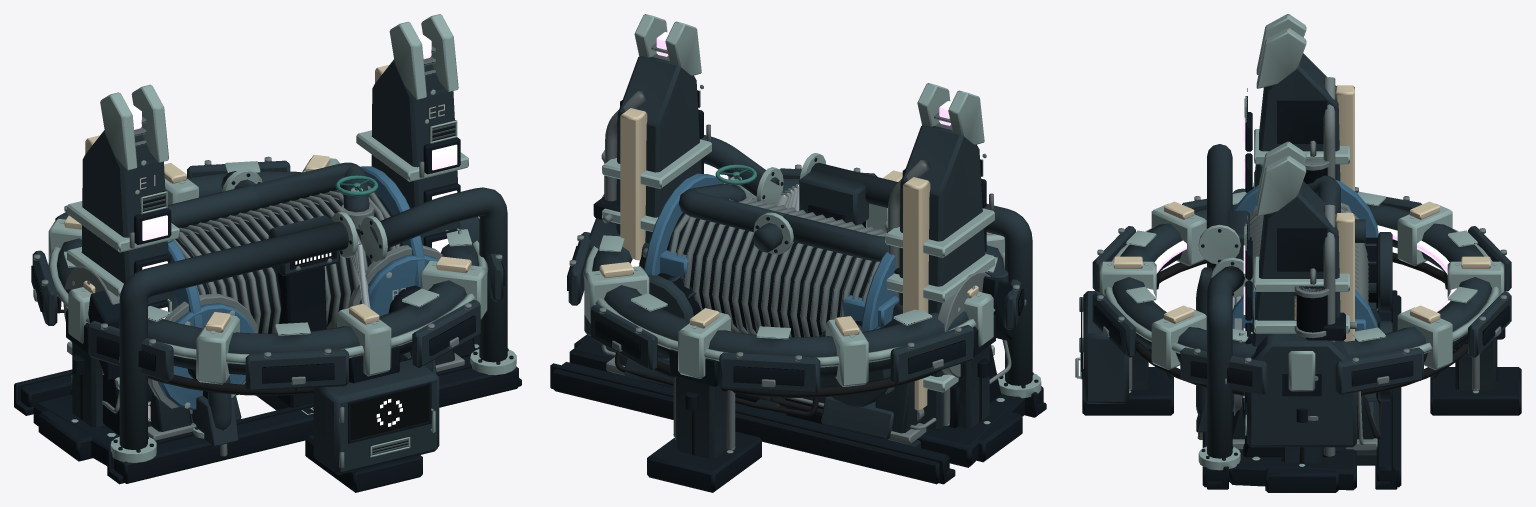
Rendered from maintenance-containment.glb.
The picture shows the model from 3 angles, left to right: view 1: azimuth 30°, elevation 25°; view 2: azimuth 150°, elevation 25°; view 3: azimuth 270°, elevation 25°; orthographic projection. The views are drawn at different scales.
Parts seen in each view (by area): view 1: containment-ring-cradle--e9-body, frost-manifold-turbines--e9-body, shield-field-emitter--e9-body, lift-winch-machinery--e9-dark, containment-ring-cradle--e9-trim, shield-field-emitter--e9-trim, lift-winch-machinery--p11-steel, containment-ring-cradle--e9-dark, shield-field-emitter--e9-dark, frost-manifold-turbines--e9-dark, frost-manifold-turbines--p11-tint-metal, frost-manifold-turbines--e9-trim (+10 smaller); view 2: containment-ring-cradle--e9-body, frost-manifold-turbines--e9-body, lift-winch-machinery--e9-dark, shield-field-emitter--e9-body, lift-winch-machinery--p11-steel, containment-ring-cradle--e9-trim, shield-field-emitter--e9-trim, containment-ring-cradle--e9-dark, shield-field-emitter--p11-tint-metal, shield-field-emitter--e9-dark, frost-manifold-turbines--e9-dark, lift-winch-machinery--p11-tint-metal (+8 smaller); view 3: containment-ring-cradle--e9-body, containment-ring-cradle--e9-trim, frost-manifold-turbines--e9-body, containment-ring-cradle--e9-dark, shield-field-emitter--e9-dark, lift-winch-machinery--e9-body, shield-field-emitter--e9-body, shield-field-emitter--e9-trim, shield-field-emitter--p11-steel, shield-field-emitter--p11-tint-metal, lift-winch-machinery--e9-dark, frost-manifold-turbines--e9-trim (+7 smaller).
Part boxes in pixels (bbox=[...]): containment-ring-cradle--e9-body: bbox=[32, 160, 503, 474]; frost-manifold-turbines--e9-body: bbox=[71, 162, 507, 449]; shield-field-emitter--e9-body: bbox=[81, 59, 460, 384]; lift-winch-machinery--e9-dark: bbox=[21, 195, 518, 483]; containment-ring-cradle--e9-trim: bbox=[48, 158, 488, 457]; shield-field-emitter--e9-trim: bbox=[67, 14, 479, 436]; lift-winch-machinery--p11-steel: bbox=[63, 185, 464, 456]; containment-ring-cradle--e9-dark: bbox=[31, 262, 504, 492]; shield-field-emitter--e9-dark: bbox=[33, 120, 479, 465]; frost-manifold-turbines--e9-dark: bbox=[14, 173, 521, 484]; frost-manifold-turbines--p11-tint-metal: bbox=[158, 175, 438, 410]; frost-manifold-turbines--e9-trim: bbox=[110, 169, 516, 462]; containment-ring-cradle--e9-body: bbox=[568, 168, 1021, 458]; frost-manifold-turbines--e9-body: bbox=[611, 135, 1032, 448]; lift-winch-machinery--e9-dark: bbox=[553, 196, 1043, 484]; shield-field-emitter--e9-body: bbox=[616, 56, 986, 430]; lift-winch-machinery--p11-steel: bbox=[601, 198, 1011, 444]; containment-ring-cradle--e9-trim: bbox=[583, 176, 1004, 453]; shield-field-emitter--e9-trim: bbox=[602, 14, 1004, 401]; containment-ring-cradle--e9-dark: bbox=[567, 221, 1024, 492]; shield-field-emitter--p11-tint-metal: bbox=[620, 108, 930, 410]; shield-field-emitter--e9-dark: bbox=[569, 90, 1024, 467]; frost-manifold-turbines--e9-dark: bbox=[550, 157, 1046, 484]; lift-winch-machinery--p11-tint-metal: bbox=[644, 173, 895, 330]; containment-ring-cradle--e9-body: bbox=[1083, 192, 1511, 462]; containment-ring-cradle--e9-trim: bbox=[1075, 191, 1504, 466]; frost-manifold-turbines--e9-body: bbox=[1196, 144, 1392, 465]; containment-ring-cradle--e9-dark: bbox=[1081, 298, 1521, 492]; shield-field-emitter--e9-dark: bbox=[1229, 96, 1356, 490]; lift-winch-machinery--e9-body: bbox=[1196, 188, 1374, 447]; shield-field-emitter--e9-body: bbox=[1252, 53, 1343, 452]; shield-field-emitter--e9-trim: bbox=[1239, 14, 1349, 460]; shield-field-emitter--p11-steel: bbox=[1239, 77, 1335, 456]; shield-field-emitter--p11-tint-metal: bbox=[1335, 85, 1354, 341]; lift-winch-machinery--e9-dark: bbox=[1202, 187, 1401, 487]; frost-manifold-turbines--e9-trim: bbox=[1198, 211, 1350, 470].
Bounding box in the file's own units: 4.8 × 3.79 × 4.88.
